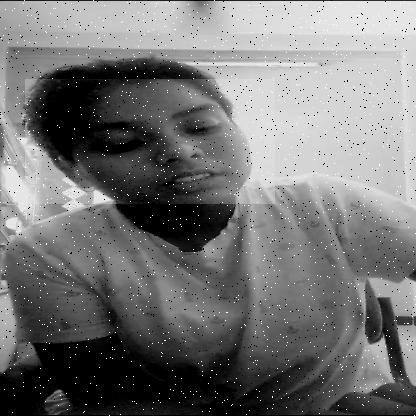Distracted: (25, 79, 275, 204)
